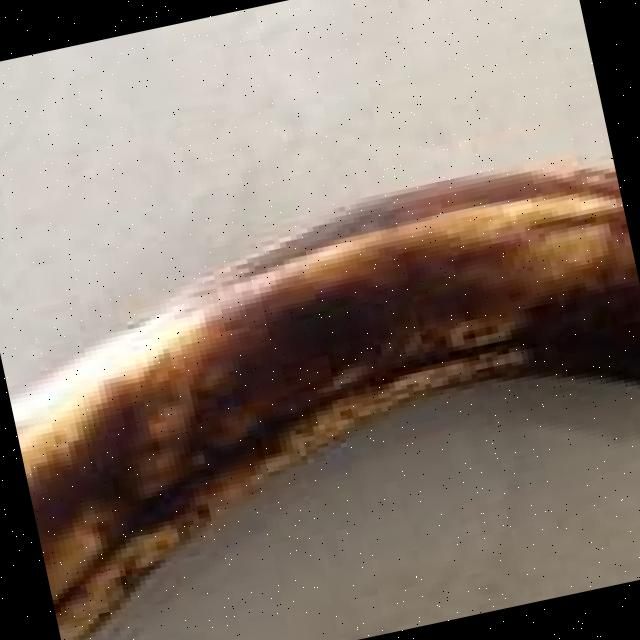Bad_Banana-0 day: (10, 170, 640, 640)
